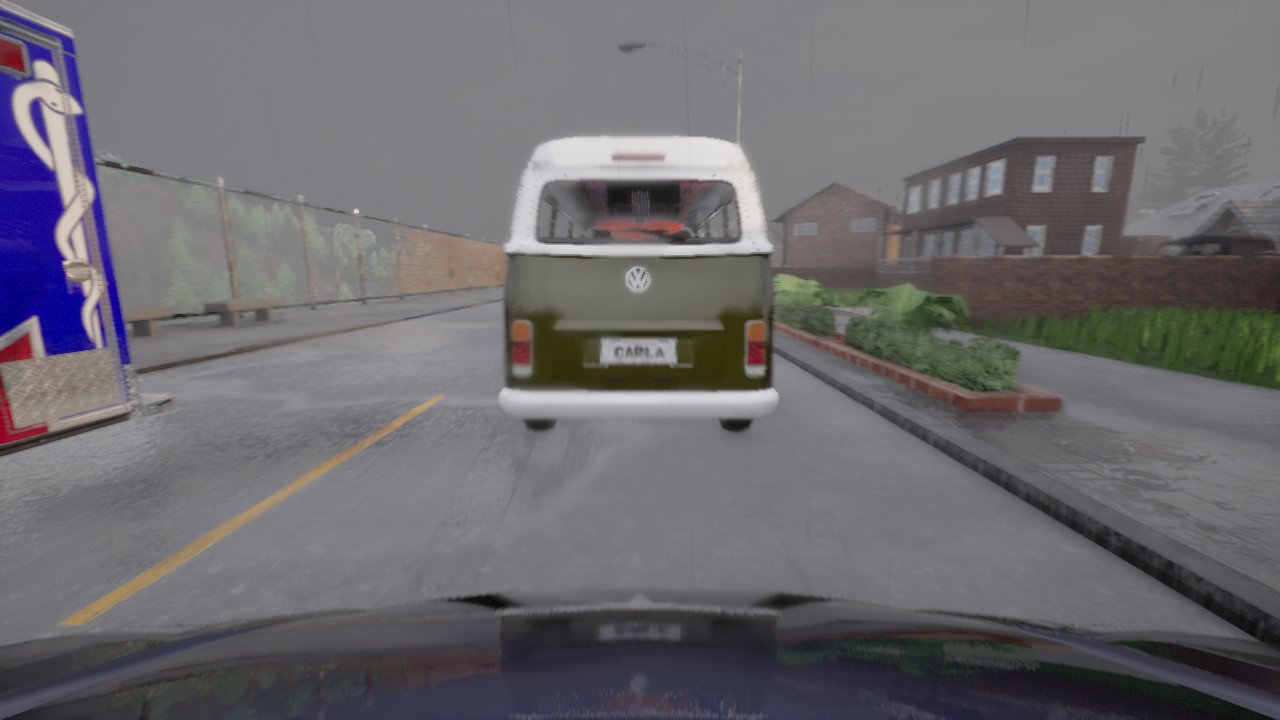cyclist: (0, 588, 1279, 719), (499, 137, 778, 432), (1147, 234, 1279, 256)
